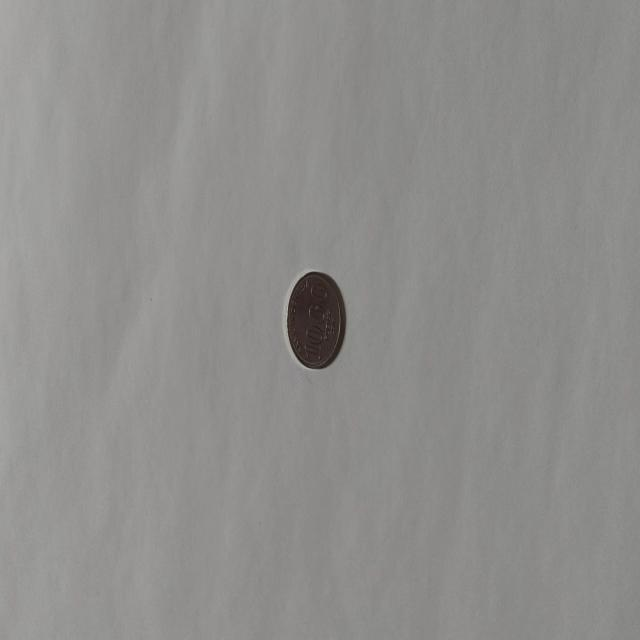seribu rupiah koin: (285, 268, 343, 370)
